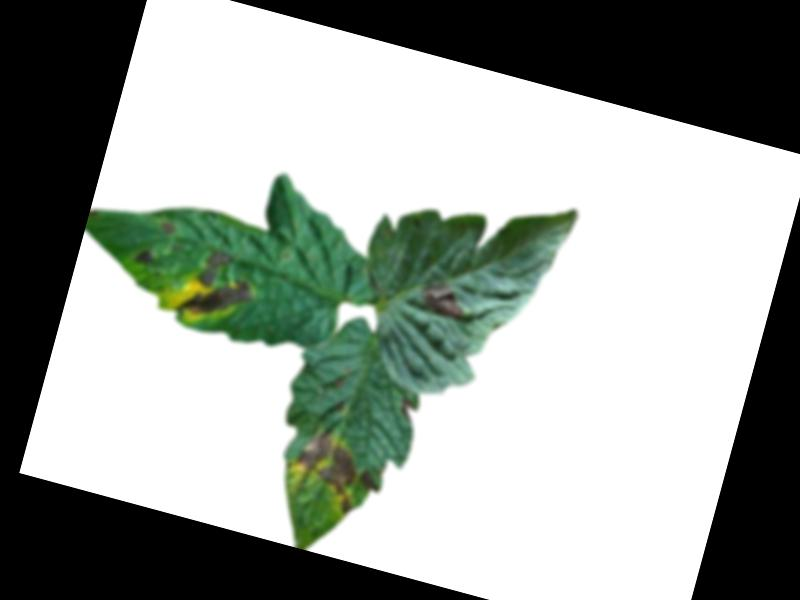Early_blight: (173, 243, 264, 331), (285, 422, 369, 516), (418, 277, 469, 321), (356, 467, 384, 495), (396, 395, 417, 420), (135, 246, 157, 267), (160, 218, 178, 233)
